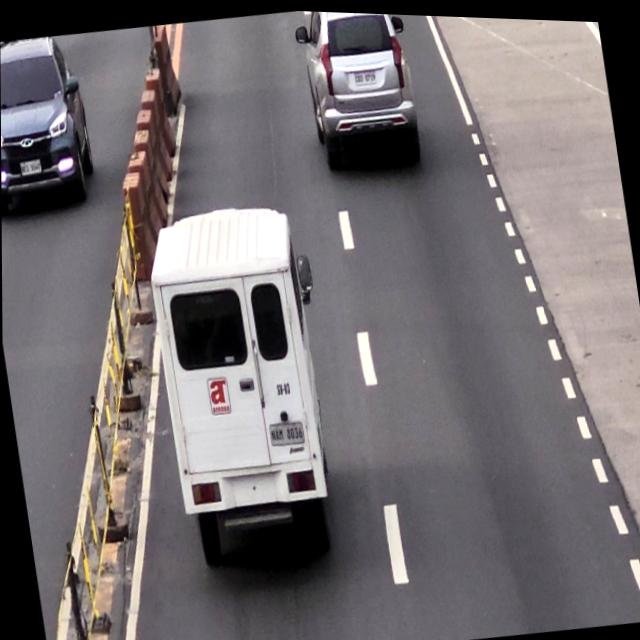Car: (146, 201, 337, 564), (300, 9, 420, 174)
License-Plate: (266, 415, 307, 448), (351, 65, 379, 87)
